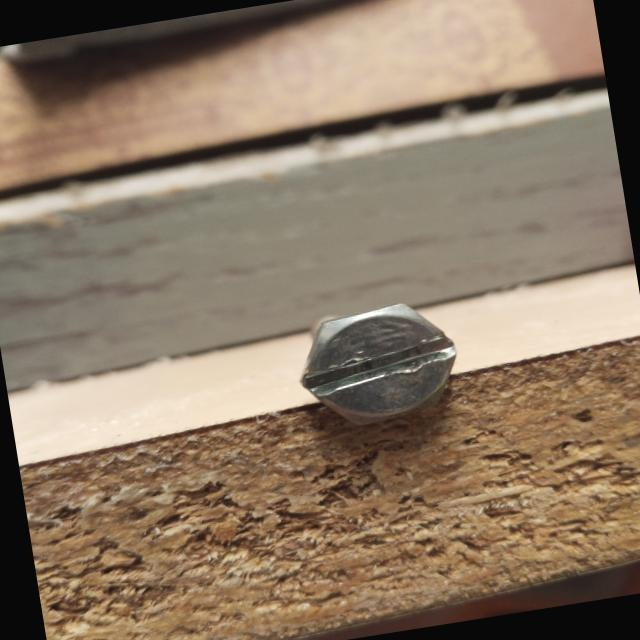Slotted: (288, 296, 470, 437)
